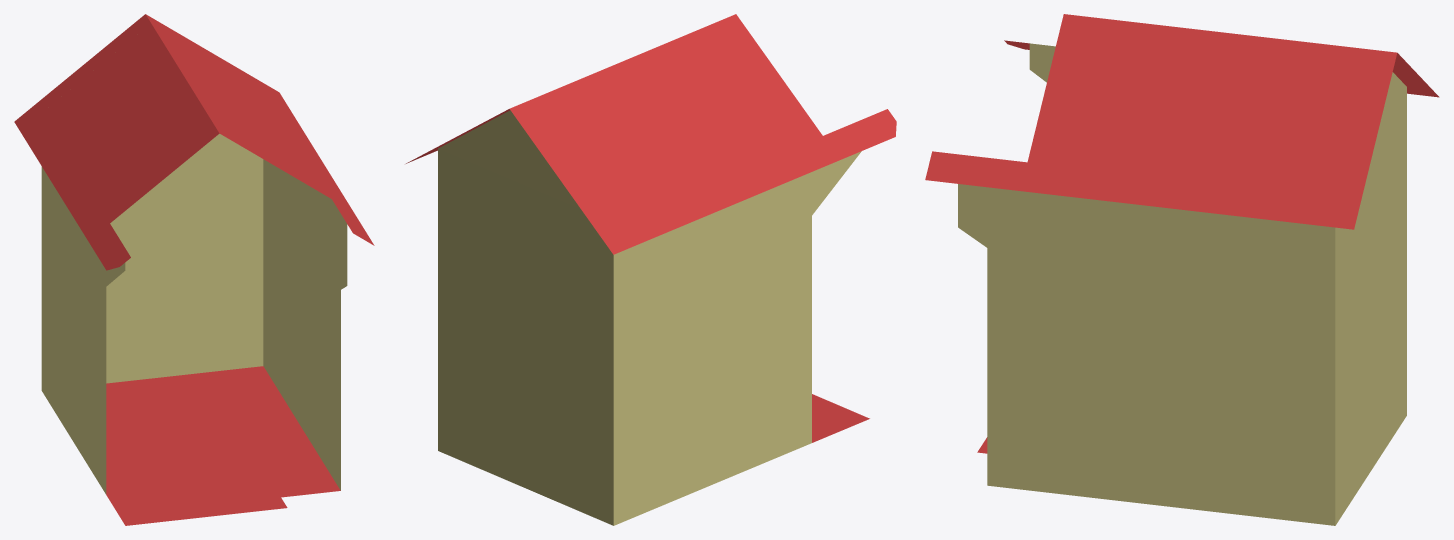
The picture shows the model from 3 angles, left to right: view 1: azimuth 30°, elevation 25°; view 2: azimuth 150°, elevation 25°; view 3: azimuth 270°, elevation 25°; orthographic projection. The views are drawn at different scales.
Size of the model in its own units: 12.02 by 14.5 by 13.07.
